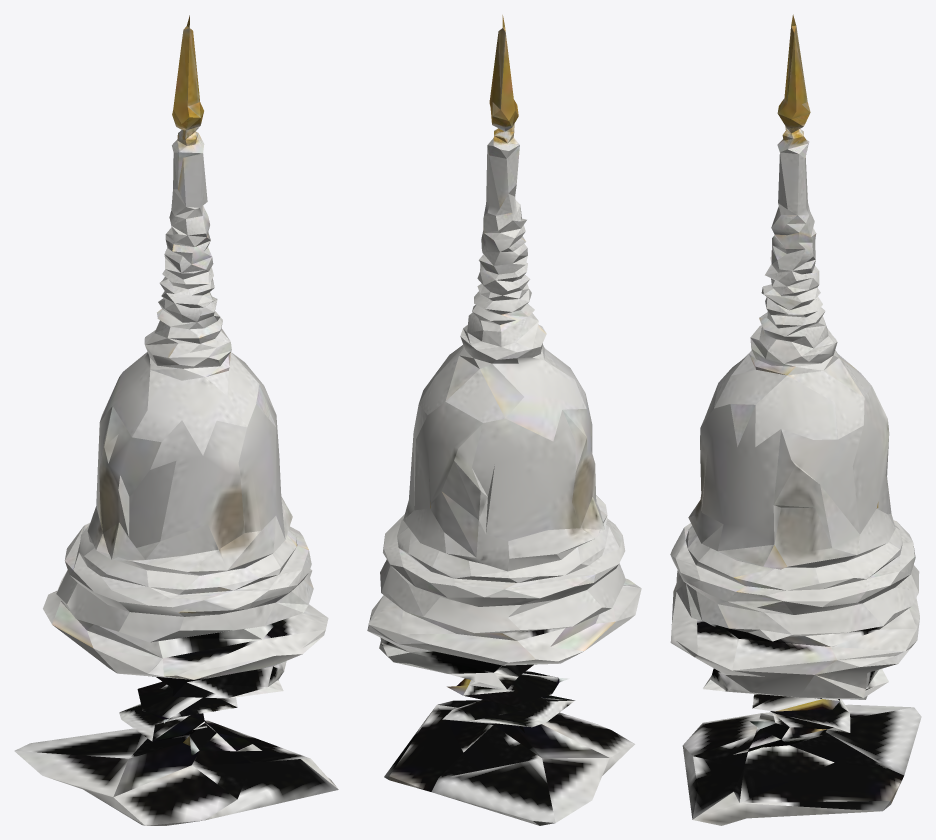
The model's file is temple_chedi_low.glb.
The picture shows the model from 3 angles, left to right: view 1: azimuth 30°, elevation 25°; view 2: azimuth 150°, elevation 25°; view 3: azimuth 270°, elevation 25°; orthographic projection. The views are drawn at different scales.
Visible parts, largest first — view 1: output_unwrapped; view 2: output_unwrapped; view 3: output_unwrapped.
Part boxes in pixels (x1,y1,x2,y2): output_unwrapped: (14,15,338,825); output_unwrapped: (367,15,641,825); output_unwrapped: (670,14,921,825).
Size of the model in its own units: 3.17 by 10 by 2.99.
1 material, 1 textured.
